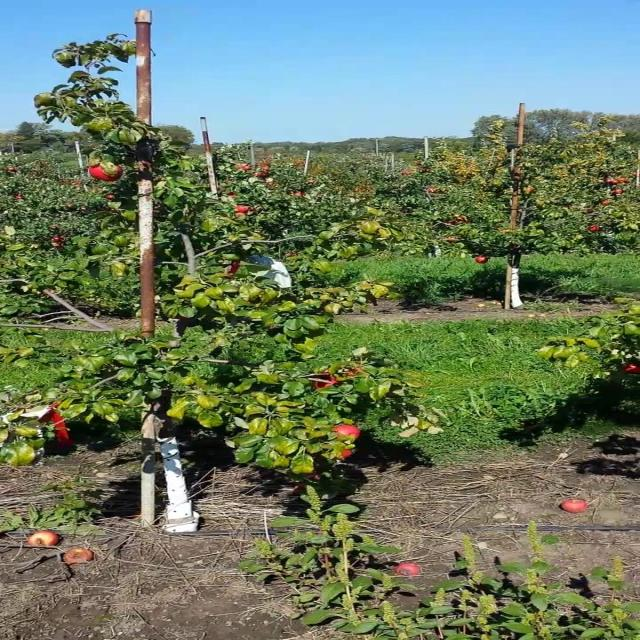apple: (92, 164, 124, 184), (326, 368, 363, 382), (333, 424, 363, 439), (312, 376, 341, 389), (42, 412, 64, 424), (340, 448, 356, 460), (625, 364, 638, 374)
